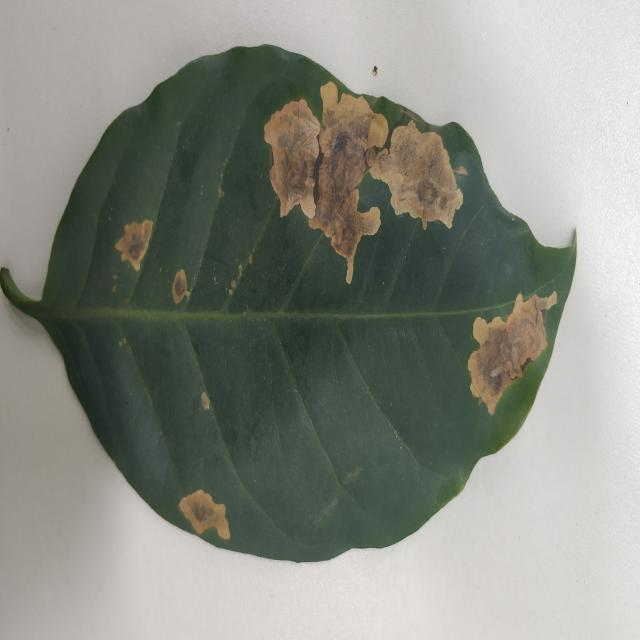Plaga-Minador: (20, 45, 579, 565)
